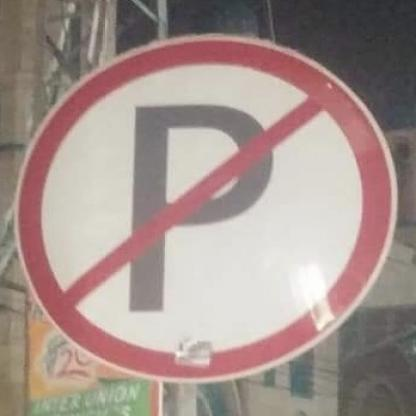No Parking: (17, 38, 396, 382)
